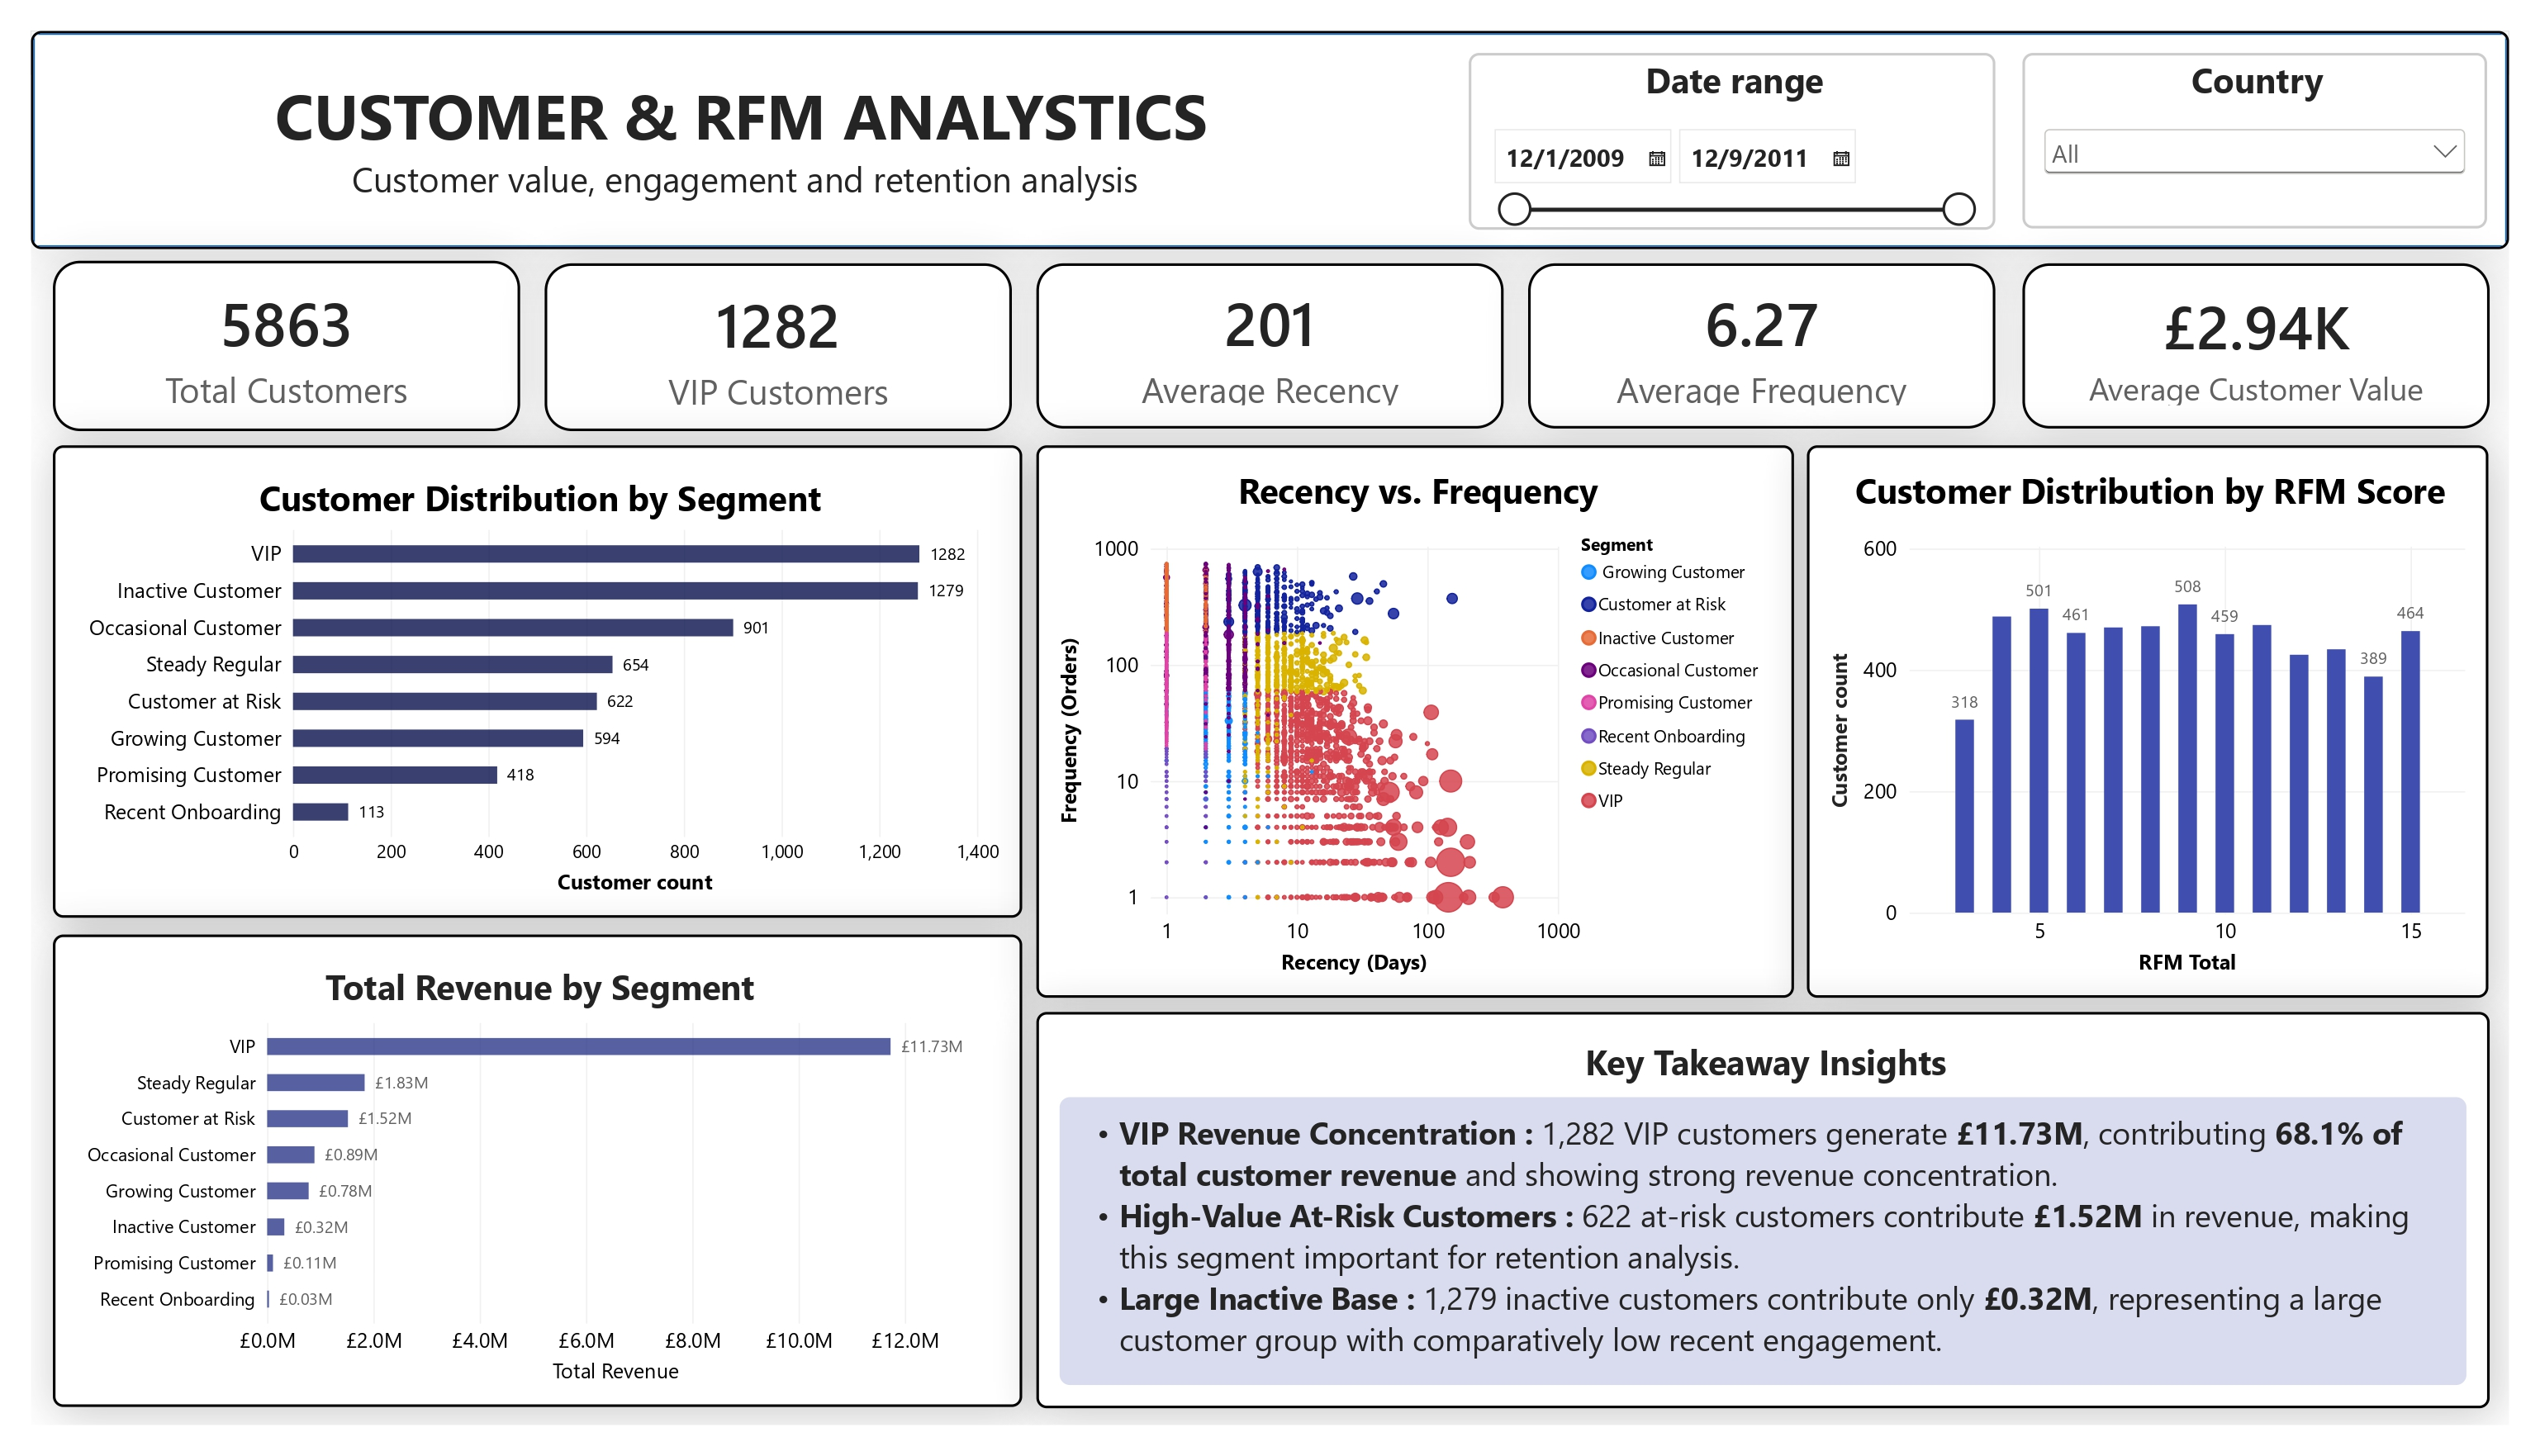

What the dashboard file says about the page in this screenshot:
{"tool":"powerbi","page":{"name":"Customer & RFM Analytics ","canvas":[1920,1080],"ordinal":1},"visuals":[{"type":"shape","box":[0,0,1920,169.1],"z":0},{"type":"textbox","box":[17,31.9,1080,121.2],"z":1000},{"type":"card","fields":{"Values":["_Measures.Total Customers"]},"box":[17.1,177.7,361.7,132.7],"z":2000},{"type":"card","fields":{"Values":["_Measures.VIP Customers"]},"box":[398.1,179.8,361.7,130.6],"z":3000},{"type":"card","fields":{"Values":["_Measures.Average Recency"]},"box":[779.1,179.8,361.7,128.4],"z":4000},{"type":"card","fields":{"Values":["_Measures.Average Frequency"]},"box":[1160.1,179.8,361.7,128.4],"z":5000},{"type":"card","fields":{"Values":["_Measures.Avearge Monetary"]},"box":[1543.3,179.8,361.7,128.4],"z":6000},{"type":"clusteredBarChart","title":"Customer Distribution by Segment ","fields":{"Category":["customer_rfm_segments.Segment"],"Y":["CountNonNull(customer_rfm_segments.Customer ID)"]},"box":[17.1,321.1,751.3,366],"z":7000},{"type":"clusteredBarChart","fields":{"Category":["customer_rfm_segments.Segment"],"Y":["_Measures.Total Revenue"]},"box":[17.1,699.9,751.3,366],"z":8000},{"type":"scatterChart","title":"Recency vs. Frequency ","fields":{"Category":["customer_rfm_segments.Customer ID"],"Series":["customer_rfm_segments.Segment"],"Size":["Sum(customer_rfm_segments.Monetary)"],"X":["customer_rfm_segments.Frequency"],"Y":["customer_rfm_segments.Recency"]},"box":[779.1,321.1,586.5,428.1],"z":9000},{"type":"clusteredColumnChart","title":"Customer Distribution by RFM Score ","fields":{"Category":["customer_rfm_segments.RFM Total"],"Y":["CountNonNull(customer_rfm_segments.Customer ID)"]},"box":[1376.3,321.1,528,428.1],"z":10000},{"type":"shape","title":"Key Takeaway Insights ","box":[779.1,759.9,1125.9,307],"z":11000},{"type":"textbox","box":[807,836.9,1061.7,201.2],"z":12000},{"type":"slicer","title":"Date range","fields":{"Values":["online_retail_cleaned csv.InvoiceDate"]},"box":[1114,17,407.6,136.8],"z":13000},{"type":"slicer","title":"Country ","fields":{"Values":["online_retail_cleaned csv.Country"]},"box":[1543.5,17,359.3,136.1],"z":14000}]}

Visuals, with their boxes on the page's 1920x1080 design canvas (x1, y1, x2, y2). These are canvas units, not pixel positions in the 2540x1456 screenshot, which may show the page scaled, cropped or inside an application window:
shape: x1=0 y1=0 x2=1920 y2=169
textbox: x1=17 y1=32 x2=1097 y2=153
card - _Measures.Total Customers: x1=17 y1=178 x2=379 y2=310
card - _Measures.VIP Customers: x1=398 y1=180 x2=760 y2=310
card - _Measures.Average Recency: x1=779 y1=180 x2=1141 y2=308
card - _Measures.Average Frequency: x1=1160 y1=180 x2=1522 y2=308
card - _Measures.Avearge Monetary: x1=1543 y1=180 x2=1905 y2=308
"Customer Distribution by Segment " clusteredBarChart: x1=17 y1=321 x2=768 y2=687
clusteredBarChart - customer_rfm_segments.Segment x _Measures.Total Revenue: x1=17 y1=700 x2=768 y2=1066
"Recency vs. Frequency " scatterChart: x1=779 y1=321 x2=1366 y2=749
"Customer Distribution by RFM Score " clusteredColumnChart: x1=1376 y1=321 x2=1904 y2=749
"Key Takeaway Insights " shape: x1=779 y1=760 x2=1905 y2=1067
textbox: x1=807 y1=837 x2=1869 y2=1038
"Date range" slicer: x1=1114 y1=17 x2=1522 y2=154
"Country " slicer: x1=1544 y1=17 x2=1903 y2=153
